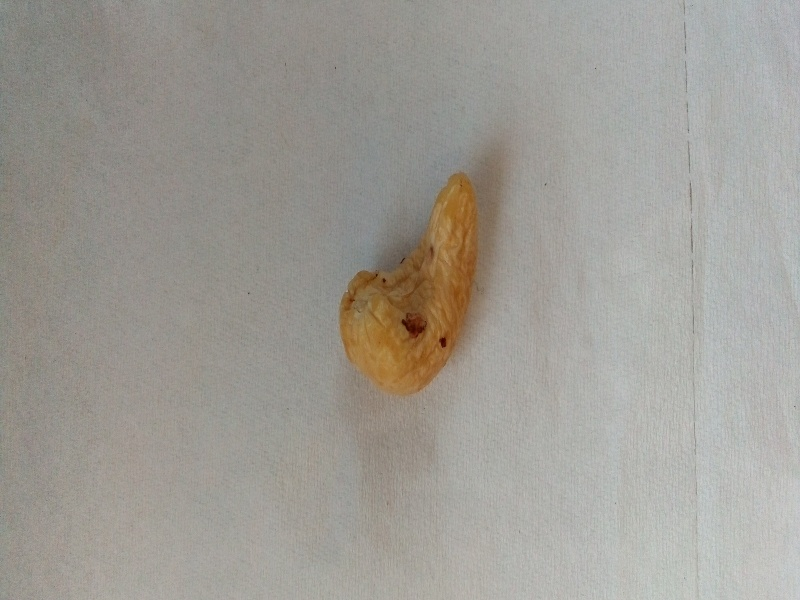cashew: (317, 168, 513, 418)
